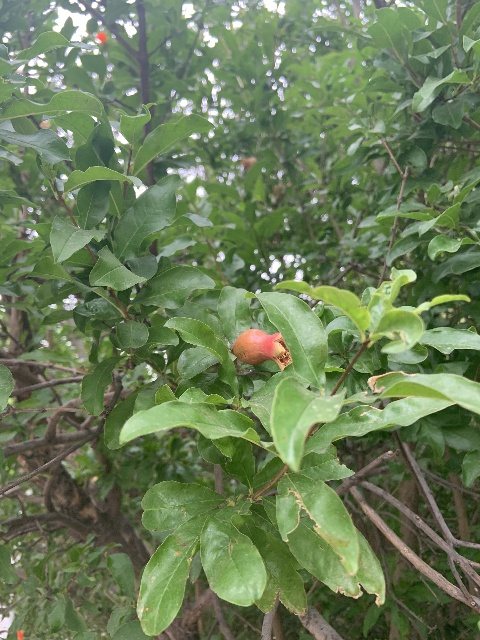early-fruit: (232, 328, 293, 371)
flower: (16, 630, 24, 640)
